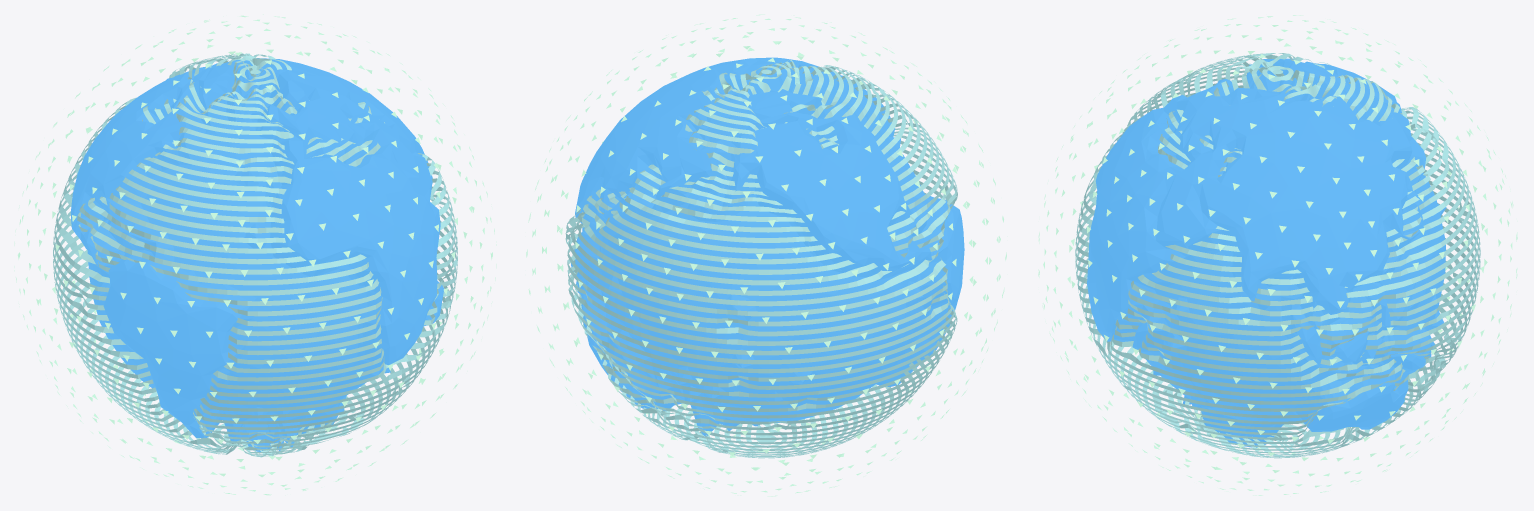
The model's file is Hologram3.glb.
3 renders of one model, left to right at view 1: azimuth 30°, elevation 25°; view 2: azimuth 150°, elevation 25°; view 3: azimuth 270°, elevation 25°, orthographic.
Visible parts, largest first — view 1: TERRE1, Sphere.002, Circle.455; view 2: TERRE1, Sphere.002, Circle.455; view 3: TERRE1, Sphere.002, Circle.455.
Part boxes in pixels (bbox=[...]): TERRE1: bbox=[70, 58, 443, 451]; Sphere.002: bbox=[53, 53, 457, 457]; Circle.455: bbox=[14, 14, 496, 495]; TERRE1: bbox=[571, 57, 964, 436]; Sphere.002: bbox=[565, 60, 957, 458]; Circle.455: bbox=[526, 14, 1007, 496]; TERRE1: bbox=[1087, 58, 1446, 447]; Sphere.002: bbox=[1075, 53, 1480, 458]; Circle.455: bbox=[1038, 15, 1517, 496].
Size of the model in its own units: 7.97 by 7.98 by 7.99.
